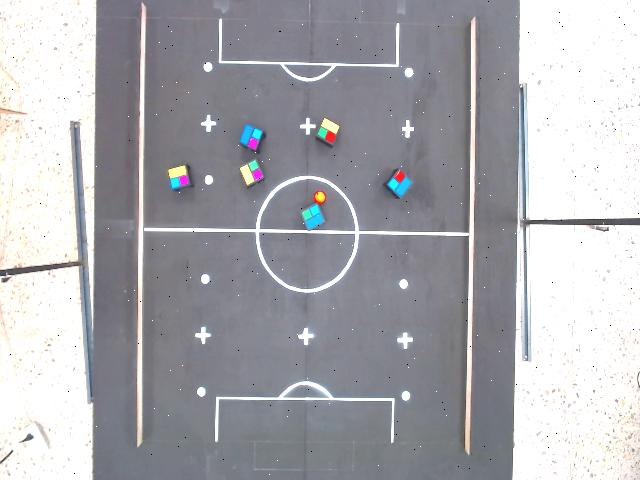robot: (237, 156, 266, 188), (385, 168, 414, 200), (314, 115, 341, 148), (238, 123, 266, 152), (299, 202, 327, 231), (166, 163, 191, 191)
